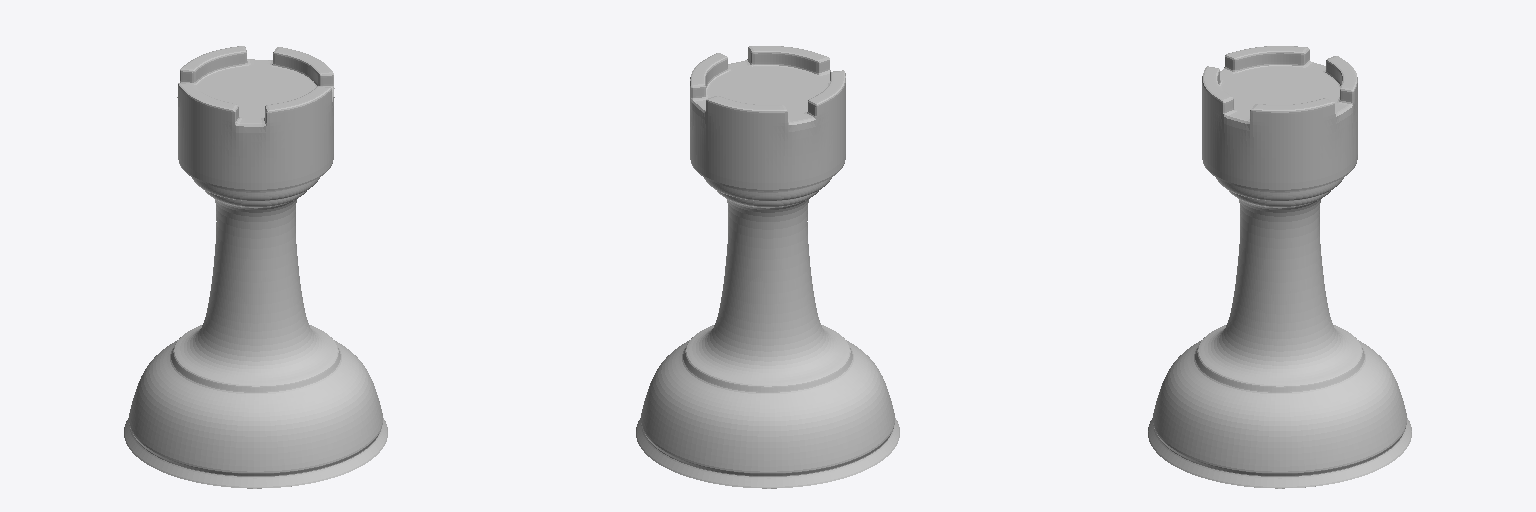
The model's file is Rook.obj.
3 views of the same model, side by side, from view 1: azimuth 30°, elevation 25°; view 2: azimuth 150°, elevation 25°; view 3: azimuth 270°, elevation 25° (orthographic).
Parts seen in each view (by area): view 1: BlackRook; view 2: BlackRook; view 3: BlackRook.
Part boxes in pixels (x1,y1,x2,y2): BlackRook: (124, 46, 387, 488); BlackRook: (636, 46, 899, 488); BlackRook: (1148, 46, 1411, 488).
Size of the model in its own units: 0.8686 by 1.29 by 0.8686.